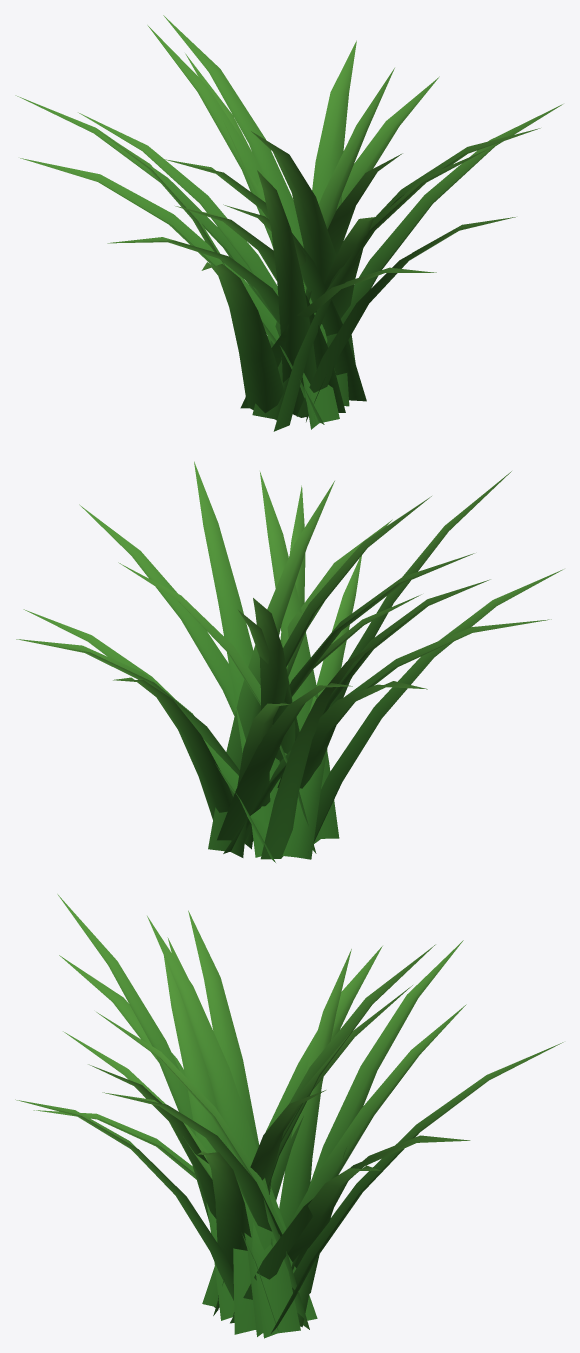
The model's file is decor_touffe_ete_2.glb.
3 views of the same model, one above another, from view 1: azimuth 30°, elevation 25°; view 2: azimuth 150°, elevation 25°; view 3: azimuth 270°, elevation 25° (orthographic). The views are drawn at different scales.
Parts seen in each view (by area): view 1: herbe; view 2: herbe; view 3: herbe.
Part boxes in pixels (x1,y1,x2,y2): herbe: [15, 15, 562, 431]; herbe: [16, 461, 563, 862]; herbe: [15, 894, 563, 1338].
Bounding box in the file's own units: 0.2193 × 0.1533 × 0.2207.
